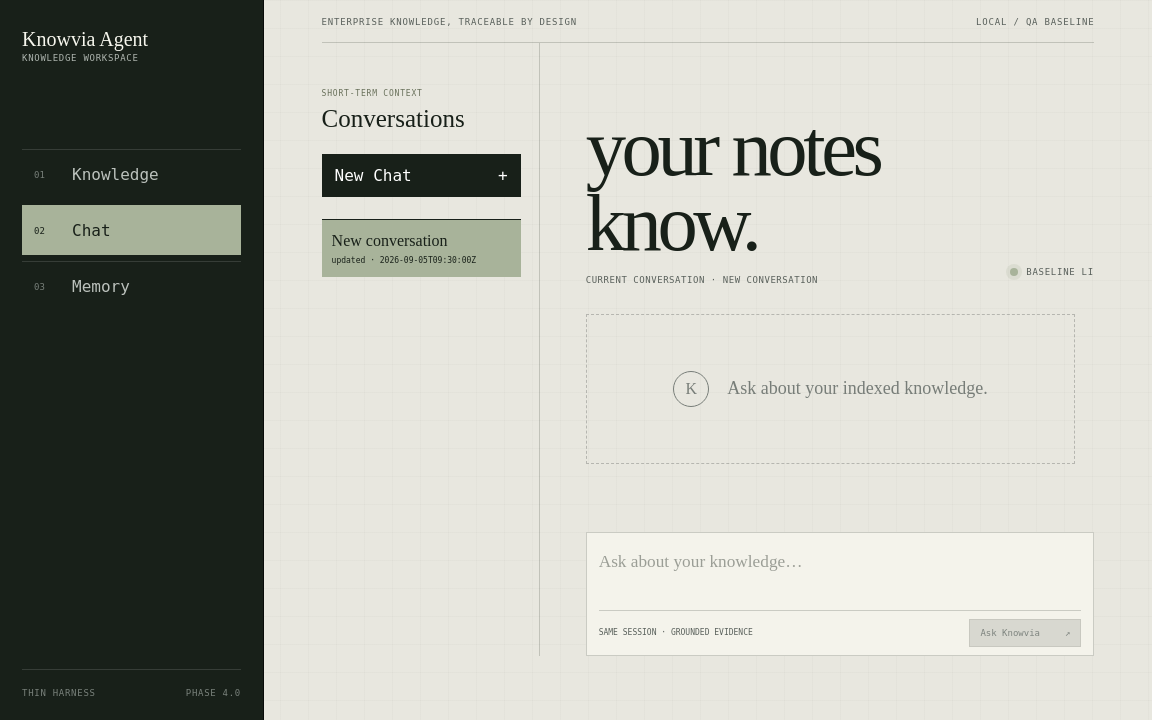
Knowvia frontend harness › shows loading, prevents duplicate submission, then renders the answer
(page scrolled)
Expected: the text "Ask about your indexed knowledge." is shown, [727,378,988,400]
In the text box named "Question": (840, 577) [599,543,1081,611], type "How does attention work?"
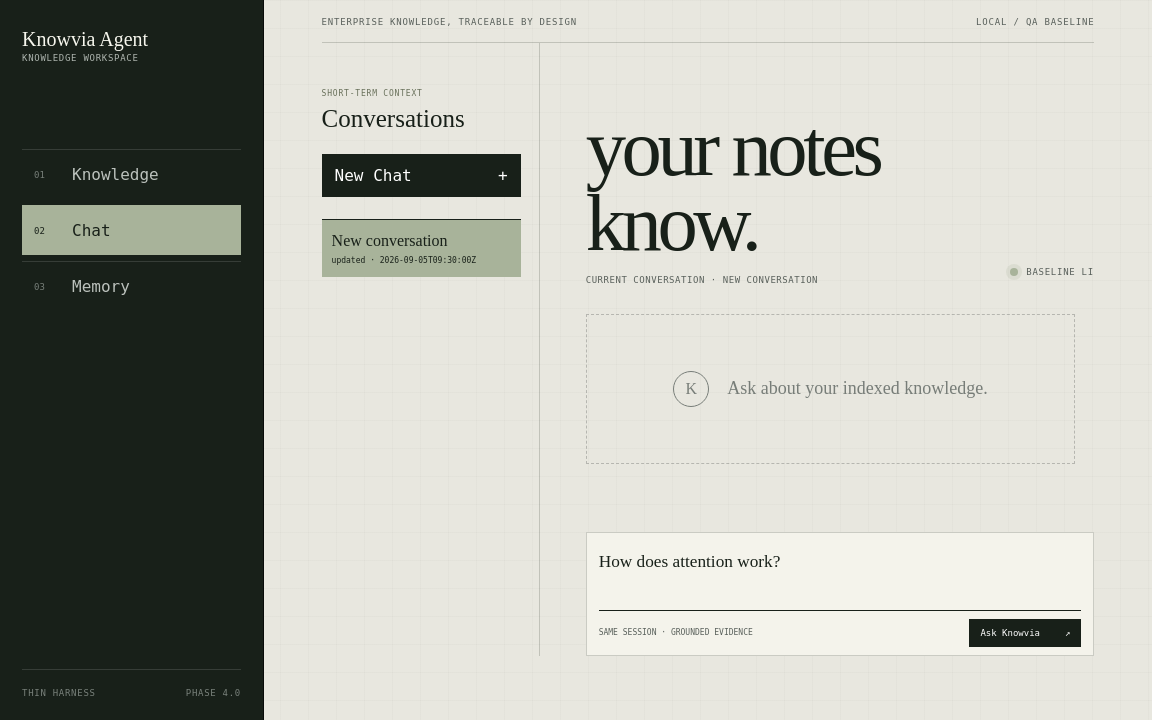
Click the button "Ask Knowvia ↗": (1025, 633) [969,619,1081,647]
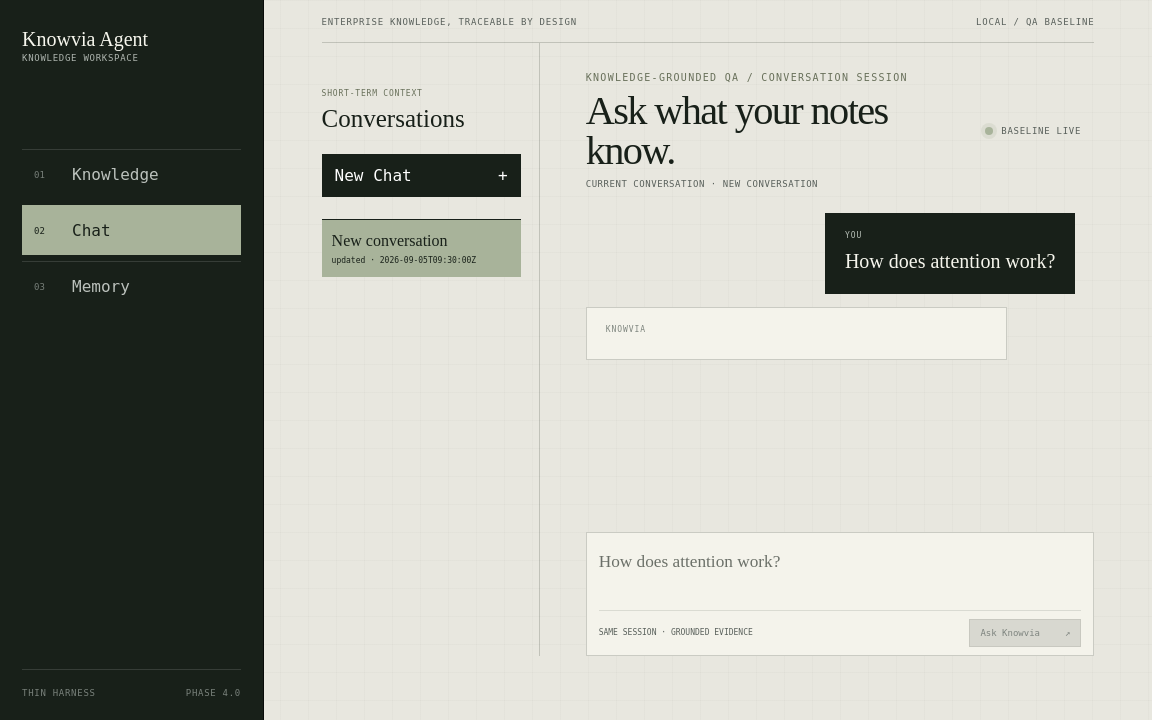
Now the button "Ask Knowvia ↗" is disabled
Click the button "Ask Knowvia ↗": (1025, 633) [969,619,1081,647]
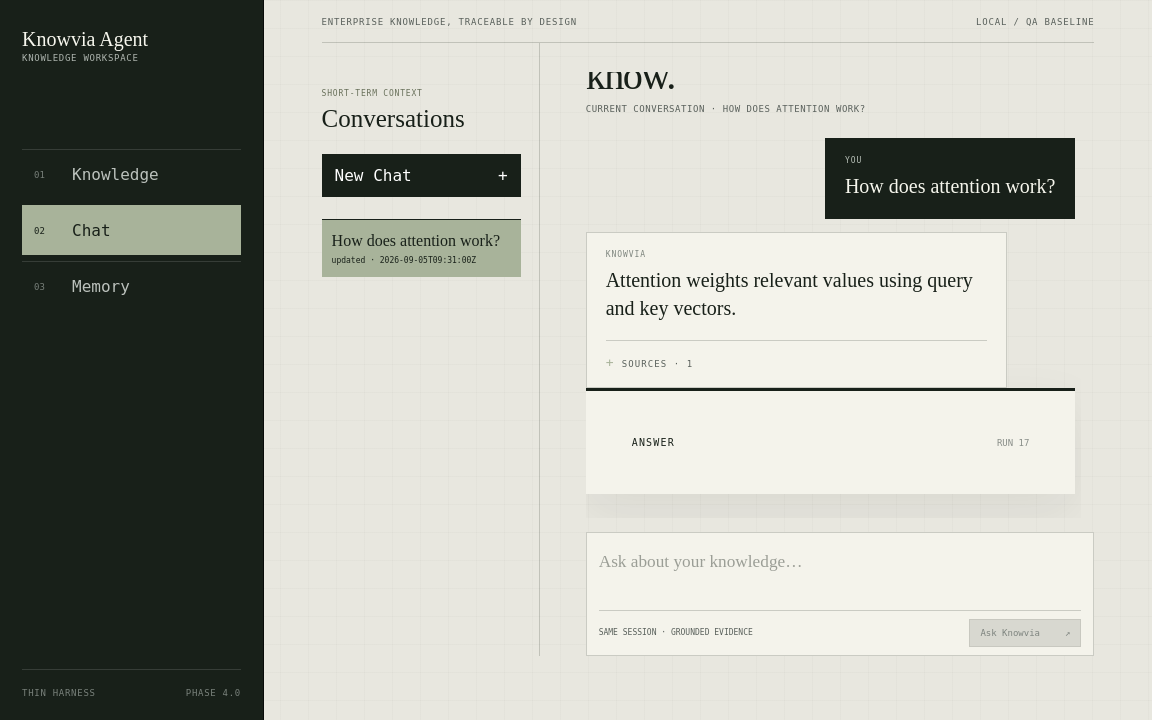
Now the text "Attention weights relevant values using query and key vectors." is shown, box [606,267,987,322]
